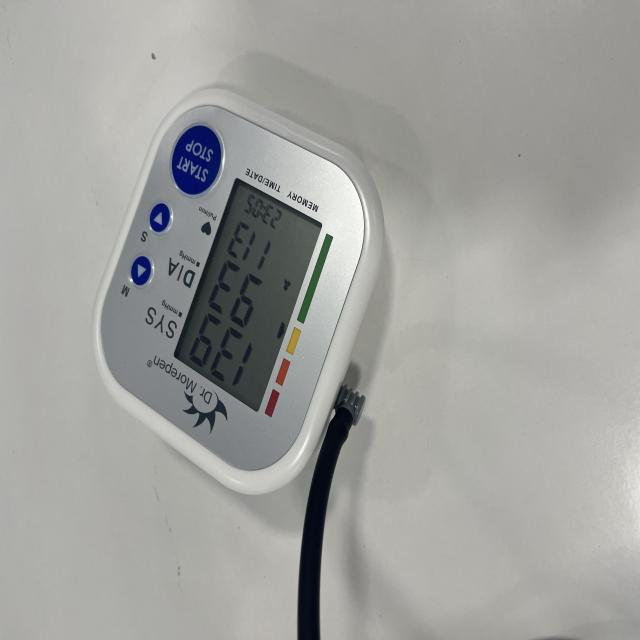bp: (93, 89, 386, 498)
